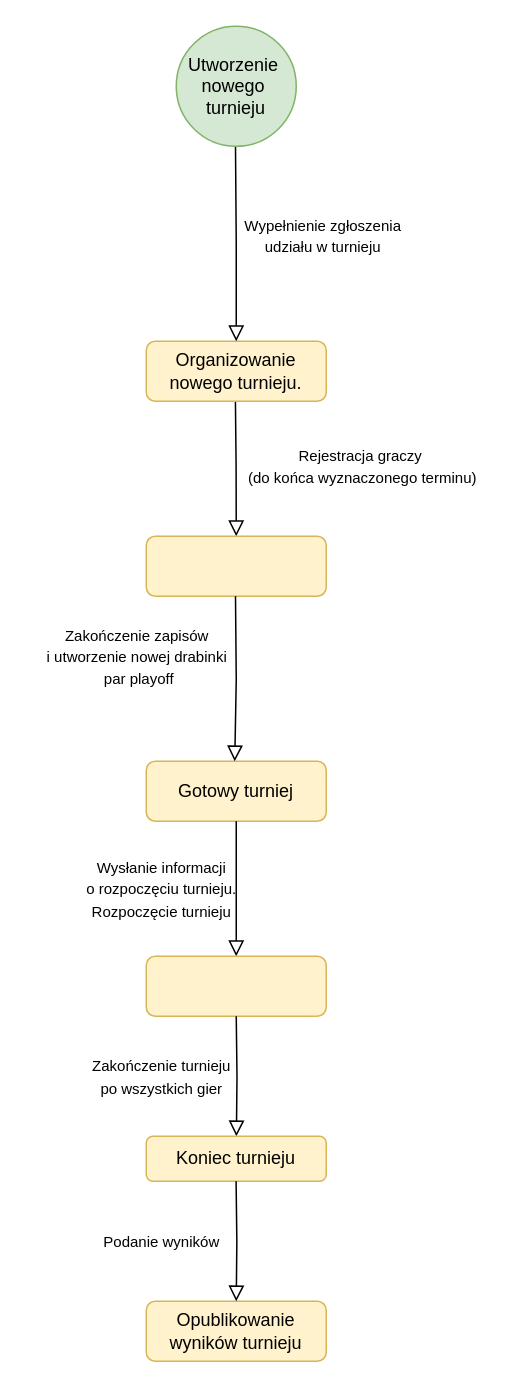
The diagram is 522 pixels wide and 1388 high, and some of its shapes have lost their labels. Each missing label, with the centre of its shape:
"Odbywający się turniej" belongs at point (235, 985).
"Zapisy" belongs at point (235, 565).
